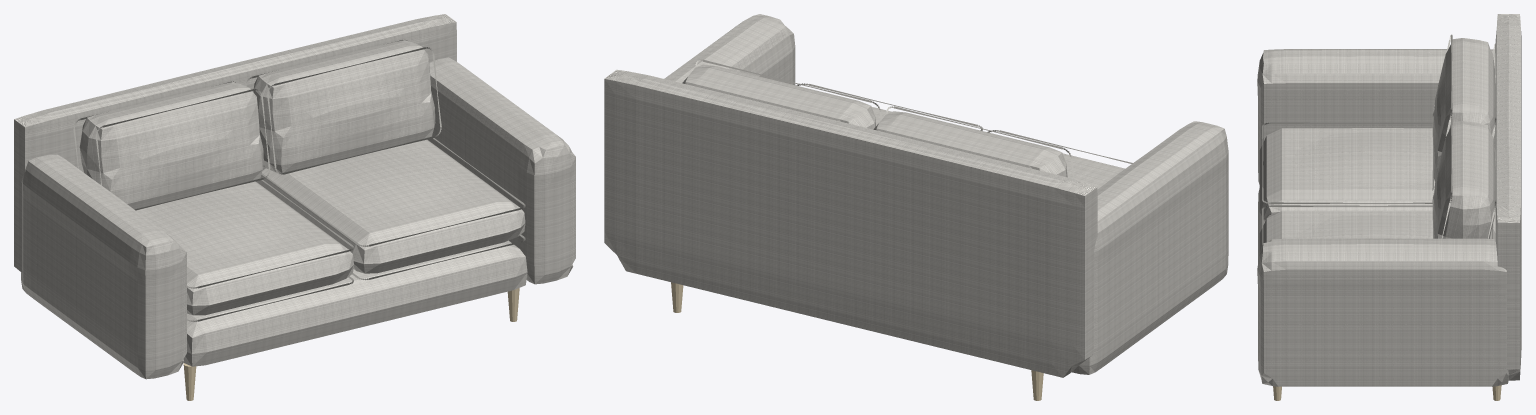
File: LIT-SOF-2-seat.glb
3 renders of one model, left to right at view 1: azimuth 30°, elevation 25°; view 2: azimuth 150°, elevation 25°; view 3: azimuth 270°, elevation 25°, orthographic. The views are drawn at different scales.
Visible parts, largest first — view 1: arm-pad-l:fabric:eyJwcmVzZXQiOiJsaW5lbiIsIndhcnAiOiJ3aGl0ZSI, seat-2:fabric:eyJwcmVzZXQiOiJsaW5lbiIsIndhcnAiOiJ3aGl0ZSIsIn, back-2:fabric:eyJwcmVzZXQiOiJsaW5lbiIsIndhcnAiOiJ3aGl0ZSIsIn, deck:fabric:eyJwcmVzZXQiOiJsaW5lbiIsIndhcnAiOiJ3aGl0ZSIsIndl, back-1:fabric:eyJwcmVzZXQiOiJsaW5lbiIsIndhcnAiOiJ3aGl0ZSIsIn, seat-1:fabric:eyJwcmVzZXQiOiJsaW5lbiIsIndhcnAiOiJ3aGl0ZSIsIn, arm-pad-r:fabric:eyJwcmVzZXQiOiJsaW5lbiIsIndhcnAiOiJ3aGl0ZSI, back-pad:fabric:eyJwcmVzZXQiOiJsaW5lbiIsIndhcnAiOiJ3aGl0ZSIs, seat-2:piping:pbr, back-2:piping:pbr, back-1:piping:pbr, seat-1:piping:pbr; view 2: back-pad:fabric:eyJwcmVzZXQiOiJsaW5lbiIsIndhcnAiOiJ3aGl0ZSIs, arm-pad-l:fabric:eyJwcmVzZXQiOiJsaW5lbiIsIndhcnAiOiJ3aGl0ZSI, arm-pad-r:fabric:eyJwcmVzZXQiOiJsaW5lbiIsIndhcnAiOiJ3aGl0ZSI, back-1:fabric:eyJwcmVzZXQiOiJsaW5lbiIsIndhcnAiOiJ3aGl0ZSIsIn, back-2:fabric:eyJwcmVzZXQiOiJsaW5lbiIsIndhcnAiOiJ3aGl0ZSIsIn, seat-1:fabric:eyJwcmVzZXQiOiJsaW5lbiIsIndhcnAiOiJ3aGl0ZSIsIn; view 3: arm-pad-r:fabric:eyJwcmVzZXQiOiJsaW5lbiIsIndhcnAiOiJ3aGl0ZSI, arm-pad-l:fabric:eyJwcmVzZXQiOiJsaW5lbiIsIndhcnAiOiJ3aGl0ZSI, seat-1:fabric:eyJwcmVzZXQiOiJsaW5lbiIsIndhcnAiOiJ3aGl0ZSIsIn, back-pad:fabric:eyJwcmVzZXQiOiJsaW5lbiIsIndhcnAiOiJ3aGl0ZSIs, back-2:fabric:eyJwcmVzZXQiOiJsaW5lbiIsIndhcnAiOiJ3aGl0ZSIsIn, back-1:fabric:eyJwcmVzZXQiOiJsaW5lbiIsIndhcnAiOiJ3aGl0ZSIsIn, seat-2:fabric:eyJwcmVzZXQiOiJsaW5lbiIsIndhcnAiOiJ3aGl0ZSIsIn, seat-1:piping:pbr, back-2:piping:pbr, back-1:piping:pbr, seat-2:piping:pbr.
Part boxes in pixels (x1,y1,x2,y2): arm-pad-l:fabric:eyJwcmVzZXQiOiJsaW5lbiIsIndhcnAiOiJ3aGl0ZSI: (21, 154, 186, 379); seat-2:fabric:eyJwcmVzZXQiOiJsaW5lbiIsIndhcnAiOiJ3aGl0ZSIsIn: (256, 139, 525, 273); back-2:fabric:eyJwcmVzZXQiOiJsaW5lbiIsIndhcnAiOiJ3aGl0ZSIsIn: (253, 40, 435, 173); deck:fabric:eyJwcmVzZXQiOiJsaW5lbiIsIndhcnAiOiJ3aGl0ZSIsIndl: (183, 240, 527, 366); back-1:fabric:eyJwcmVzZXQiOiJsaW5lbiIsIndhcnAiOiJ3aGl0ZSIsIn: (79, 82, 263, 209); seat-1:fabric:eyJwcmVzZXQiOiJsaW5lbiIsIndhcnAiOiJ3aGl0ZSIsIn: (136, 181, 353, 315); arm-pad-r:fabric:eyJwcmVzZXQiOiJsaW5lbiIsIndhcnAiOiJ3aGl0ZSI: (427, 57, 575, 284); back-pad:fabric:eyJwcmVzZXQiOiJsaW5lbiIsIndhcnAiOiJ3aGl0ZSIs: (14, 14, 456, 272); seat-2:piping:pbr: (261, 138, 525, 280); back-2:piping:pbr: (245, 40, 441, 174); back-1:piping:pbr: (73, 81, 270, 210); seat-1:piping:pbr: (187, 180, 353, 321); back-pad:fabric:eyJwcmVzZXQiOiJsaW5lbiIsIndhcnAiOiJ3aGl0ZSIs: (604, 69, 1097, 377); arm-pad-l:fabric:eyJwcmVzZXQiOiJsaW5lbiIsIndhcnAiOiJ3aGl0ZSI: (1072, 121, 1228, 374); arm-pad-r:fabric:eyJwcmVzZXQiOiJsaW5lbiIsIndhcnAiOiJ3aGl0ZSI: (619, 14, 795, 259); back-1:fabric:eyJwcmVzZXQiOiJsaW5lbiIsIndhcnAiOiJ3aGl0ZSIsIn: (873, 111, 1067, 177); back-2:fabric:eyJwcmVzZXQiOiJsaW5lbiIsIndhcnAiOiJ3aGl0ZSIsIn: (682, 64, 875, 129); seat-1:fabric:eyJwcmVzZXQiOiJsaW5lbiIsIndhcnAiOiJ3aGl0ZSIsIn: (1062, 153, 1124, 189); arm-pad-r:fabric:eyJwcmVzZXQiOiJsaW5lbiIsIndhcnAiOiJ3aGl0ZSI: (1257, 238, 1509, 386); arm-pad-l:fabric:eyJwcmVzZXQiOiJsaW5lbiIsIndhcnAiOiJ3aGl0ZSI: (1257, 49, 1495, 184); seat-1:fabric:eyJwcmVzZXQiOiJsaW5lbiIsIndhcnAiOiJ3aGl0ZSIsIn: (1259, 128, 1495, 221); back-pad:fabric:eyJwcmVzZXQiOiJsaW5lbiIsIndhcnAiOiJ3aGl0ZSIs: (1495, 14, 1521, 380); back-2:fabric:eyJwcmVzZXQiOiJsaW5lbiIsIndhcnAiOiJ3aGl0ZSIsIn: (1433, 121, 1495, 238); back-1:fabric:eyJwcmVzZXQiOiJsaW5lbiIsIndhcnAiOiJ3aGl0ZSIsIn: (1433, 38, 1495, 181); seat-2:fabric:eyJwcmVzZXQiOiJsaW5lbiIsIndhcnAiOiJ3aGl0ZSIsIn: (1259, 211, 1495, 252); seat-1:piping:pbr: (1262, 122, 1493, 227); back-2:piping:pbr: (1432, 117, 1496, 238); back-1:piping:pbr: (1432, 34, 1496, 192); seat-2:piping:pbr: (1262, 205, 1492, 244).
Bounding box in the file's own units: 1.7 × 0.78 × 0.9.
16 materials, 8 textured.
